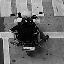mobil: (7, 4, 55, 57)
